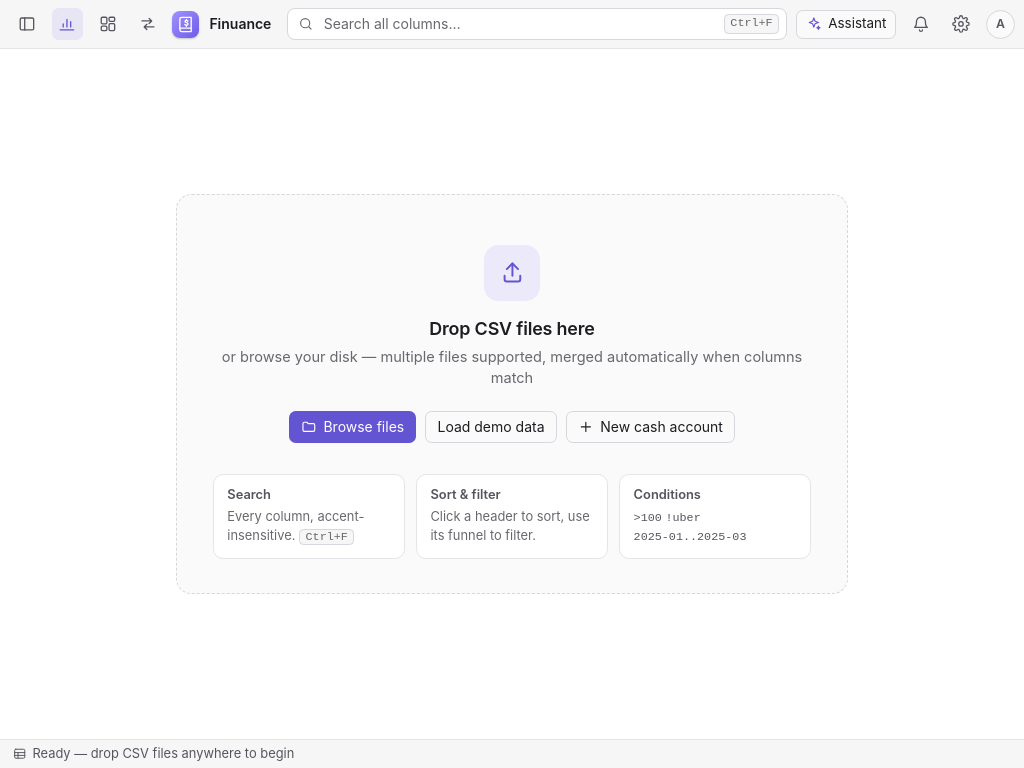
shell › unfolds the other themes from the quick settings and picks one
The image size is (1024, 768).
Step 1. Click the button named "Settings" → {"x": 961, "y": 24}, box [946, 8, 977, 40]
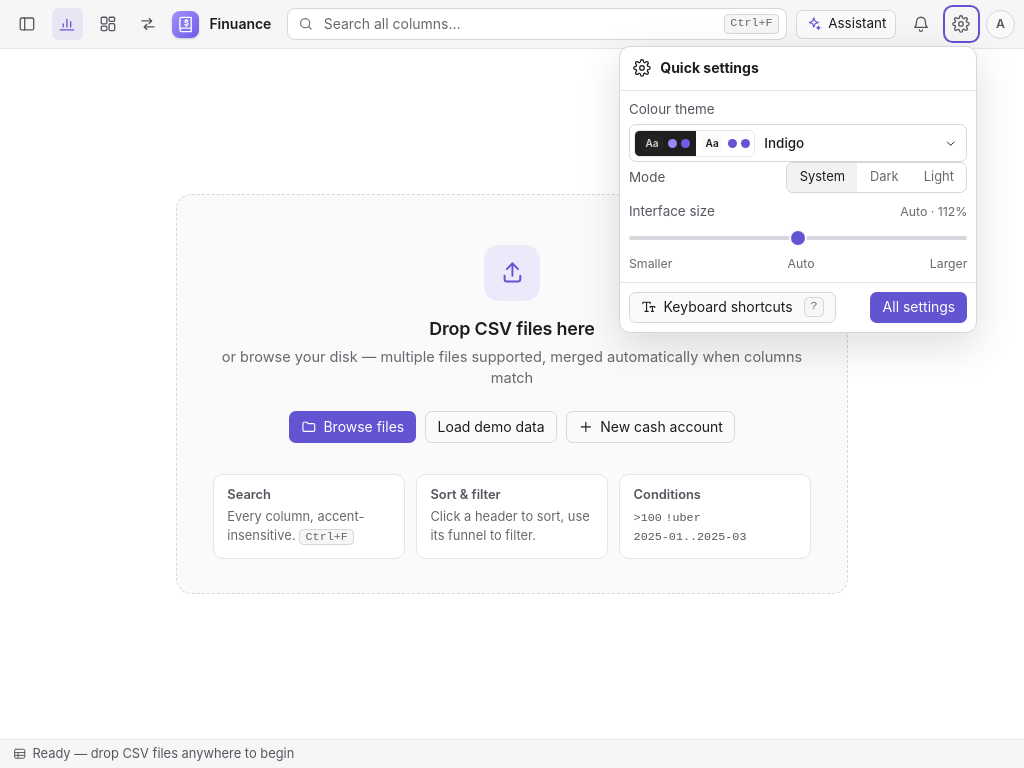
Step 2. Click the button "Aa Aa Indigo" → {"x": 798, "y": 143}, box [629, 124, 968, 162]
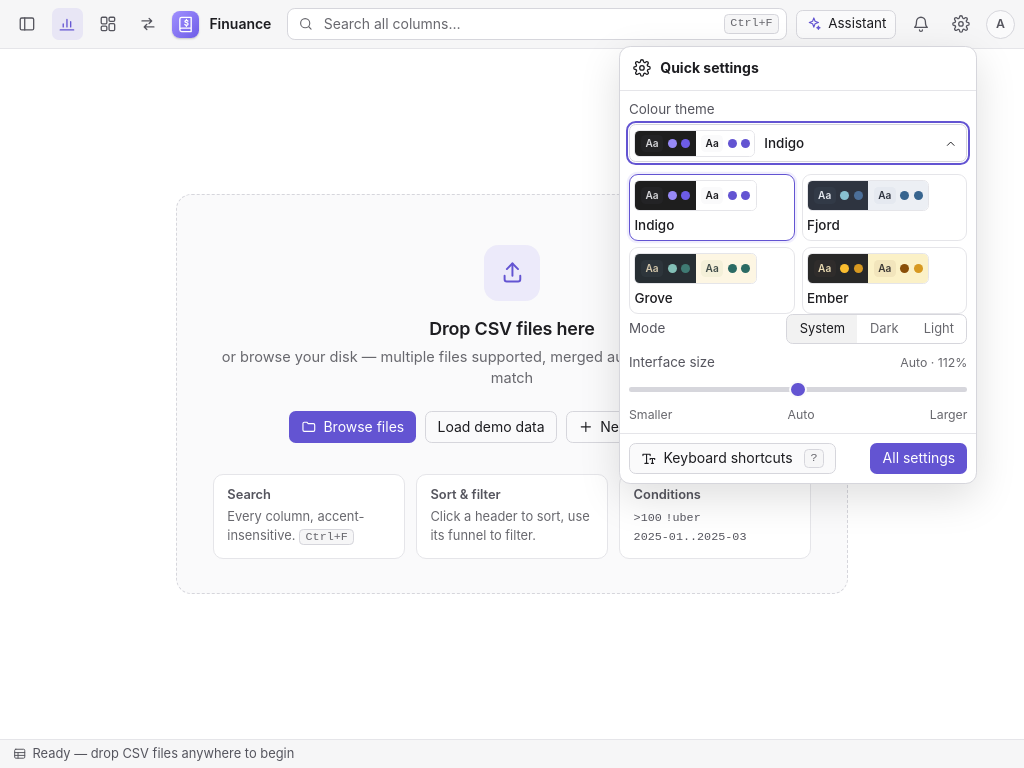
Step 3. Click the radio button labelled "Aa Aa Fjord" → {"x": 884, "y": 208}, box [802, 174, 967, 241]
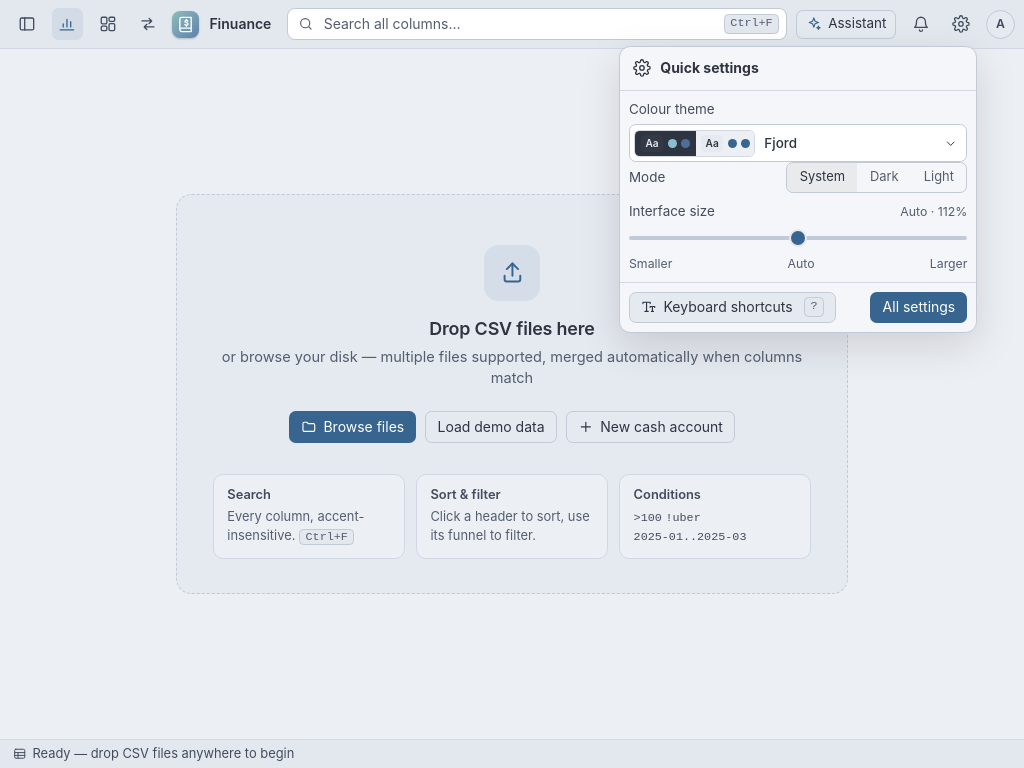
Now the button "Aa Aa Fjord" is shown, box [629, 124, 968, 162]
